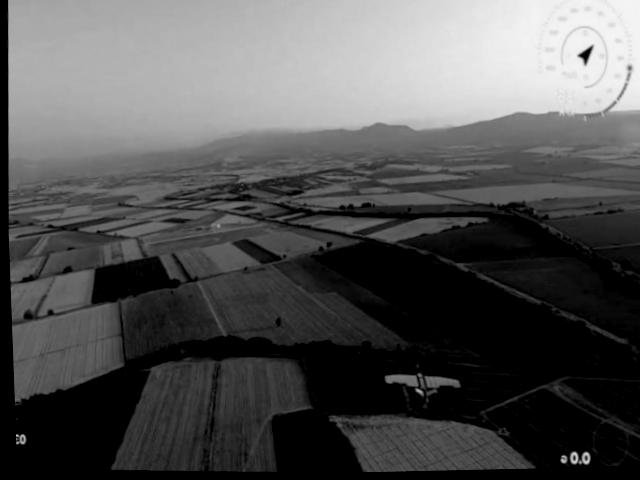hedef: (375, 361, 463, 425)
